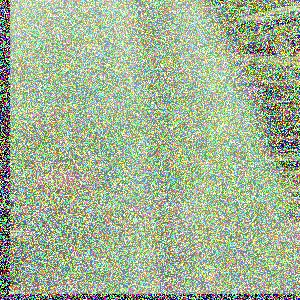Brown_Spot: (34, 144, 88, 208)
